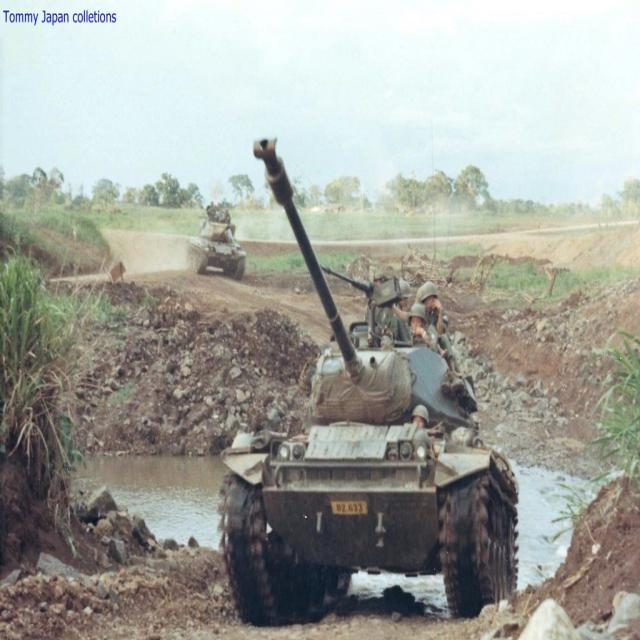tank: (218, 138, 520, 614)
